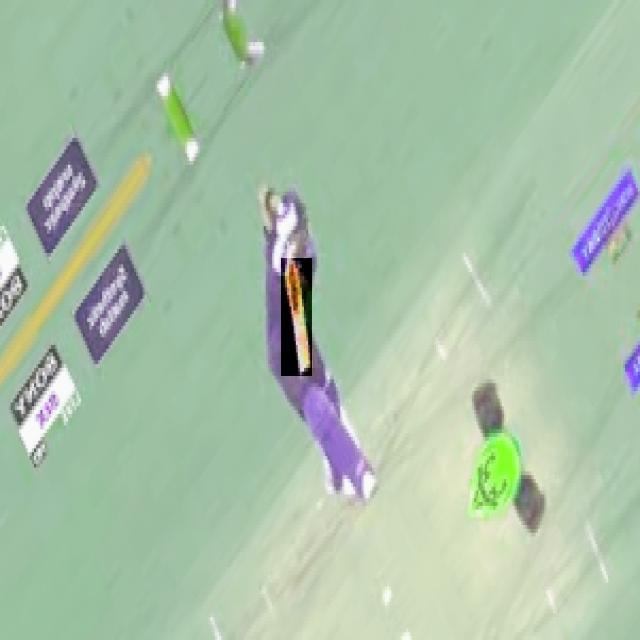bat: (281, 258, 315, 375)
